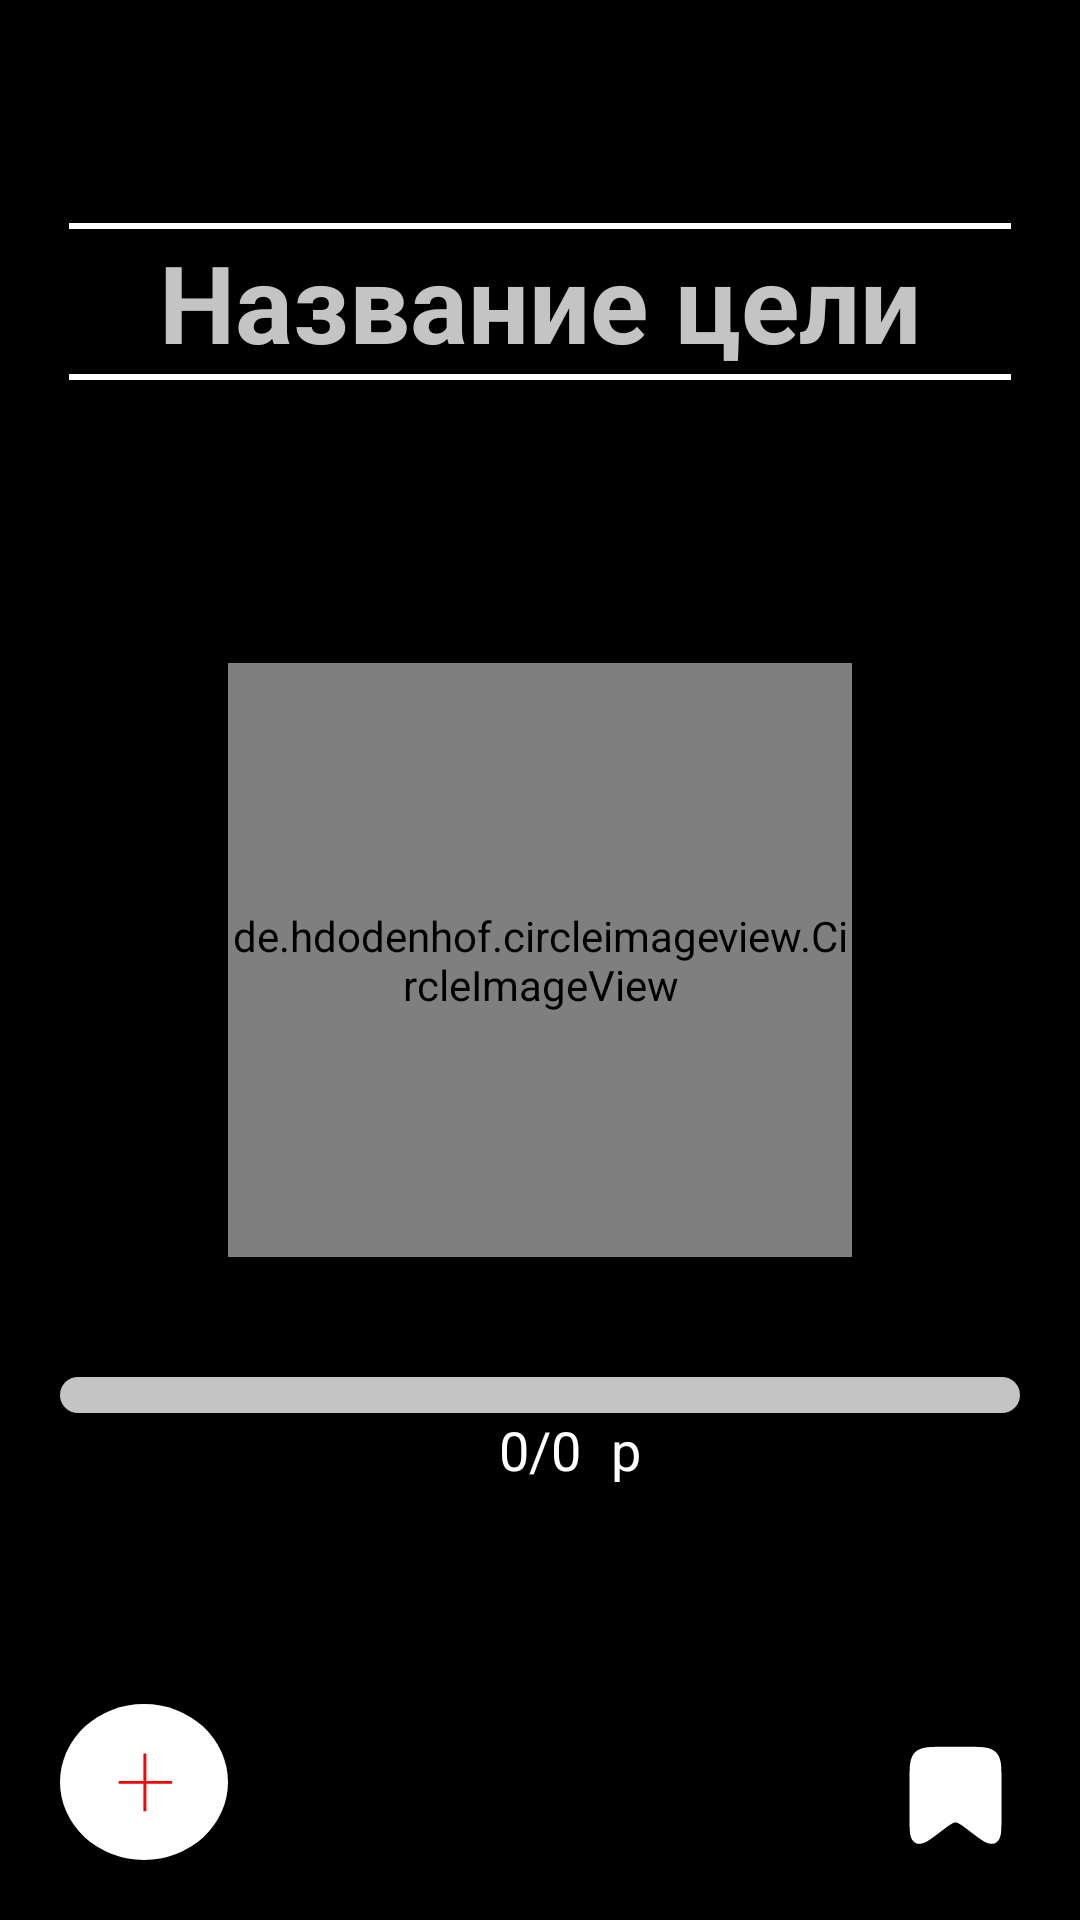

Named icons in this screenshot (1080px x 1920px) and their bounding boxes, (x1, y1, x2, y2):
add good: (60, 1704, 228, 1860)
bookmark: (909, 1746, 1002, 1844)
